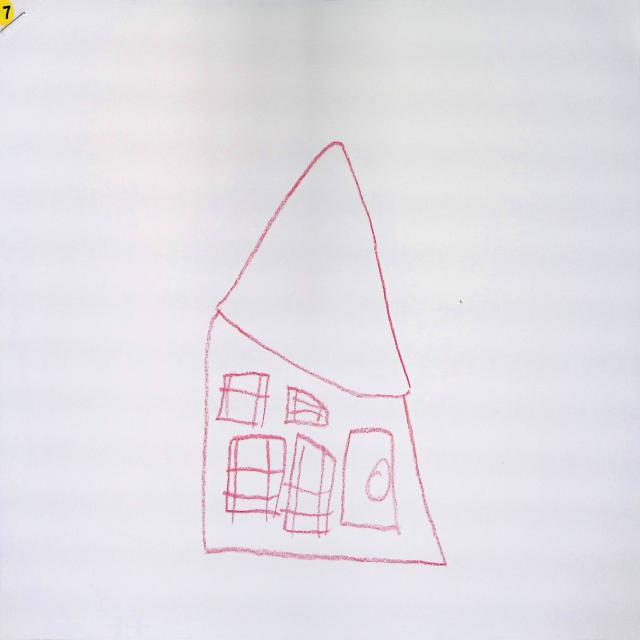door: (341, 429, 398, 532)
house: (202, 142, 447, 567)
roof: (215, 142, 413, 397)
wall: (200, 314, 444, 564)
window: (284, 434, 337, 538), (224, 435, 286, 522), (216, 372, 270, 427), (286, 387, 329, 428)
